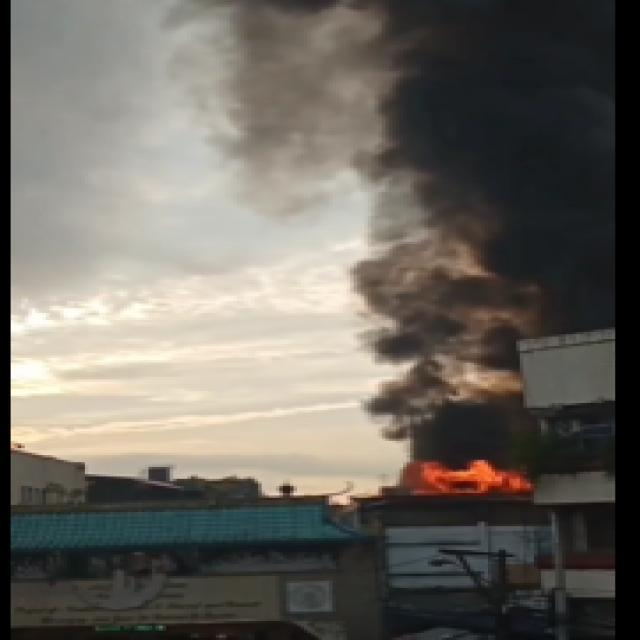Fire: (399, 461, 541, 496)
Smoke: (255, 0, 640, 339), (384, 378, 556, 480)
